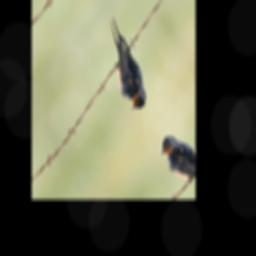Swallow: (90, 15, 160, 118)
